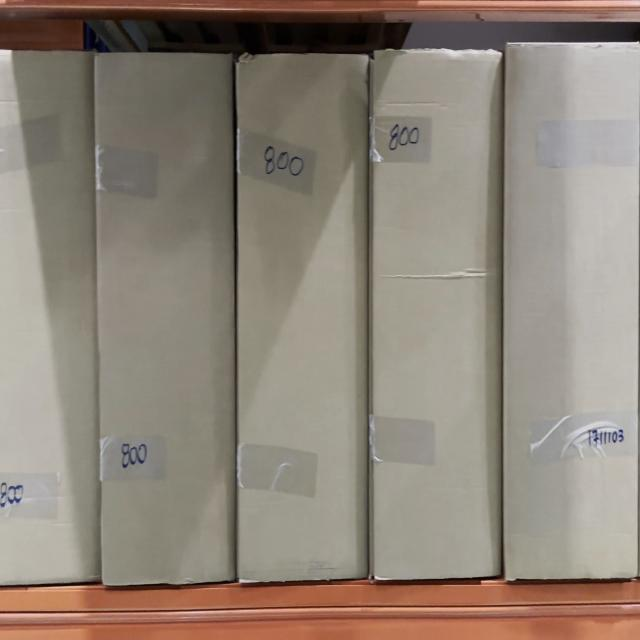box: (101, 54, 235, 579), (508, 45, 639, 573), (239, 56, 368, 581), (373, 52, 500, 576)
